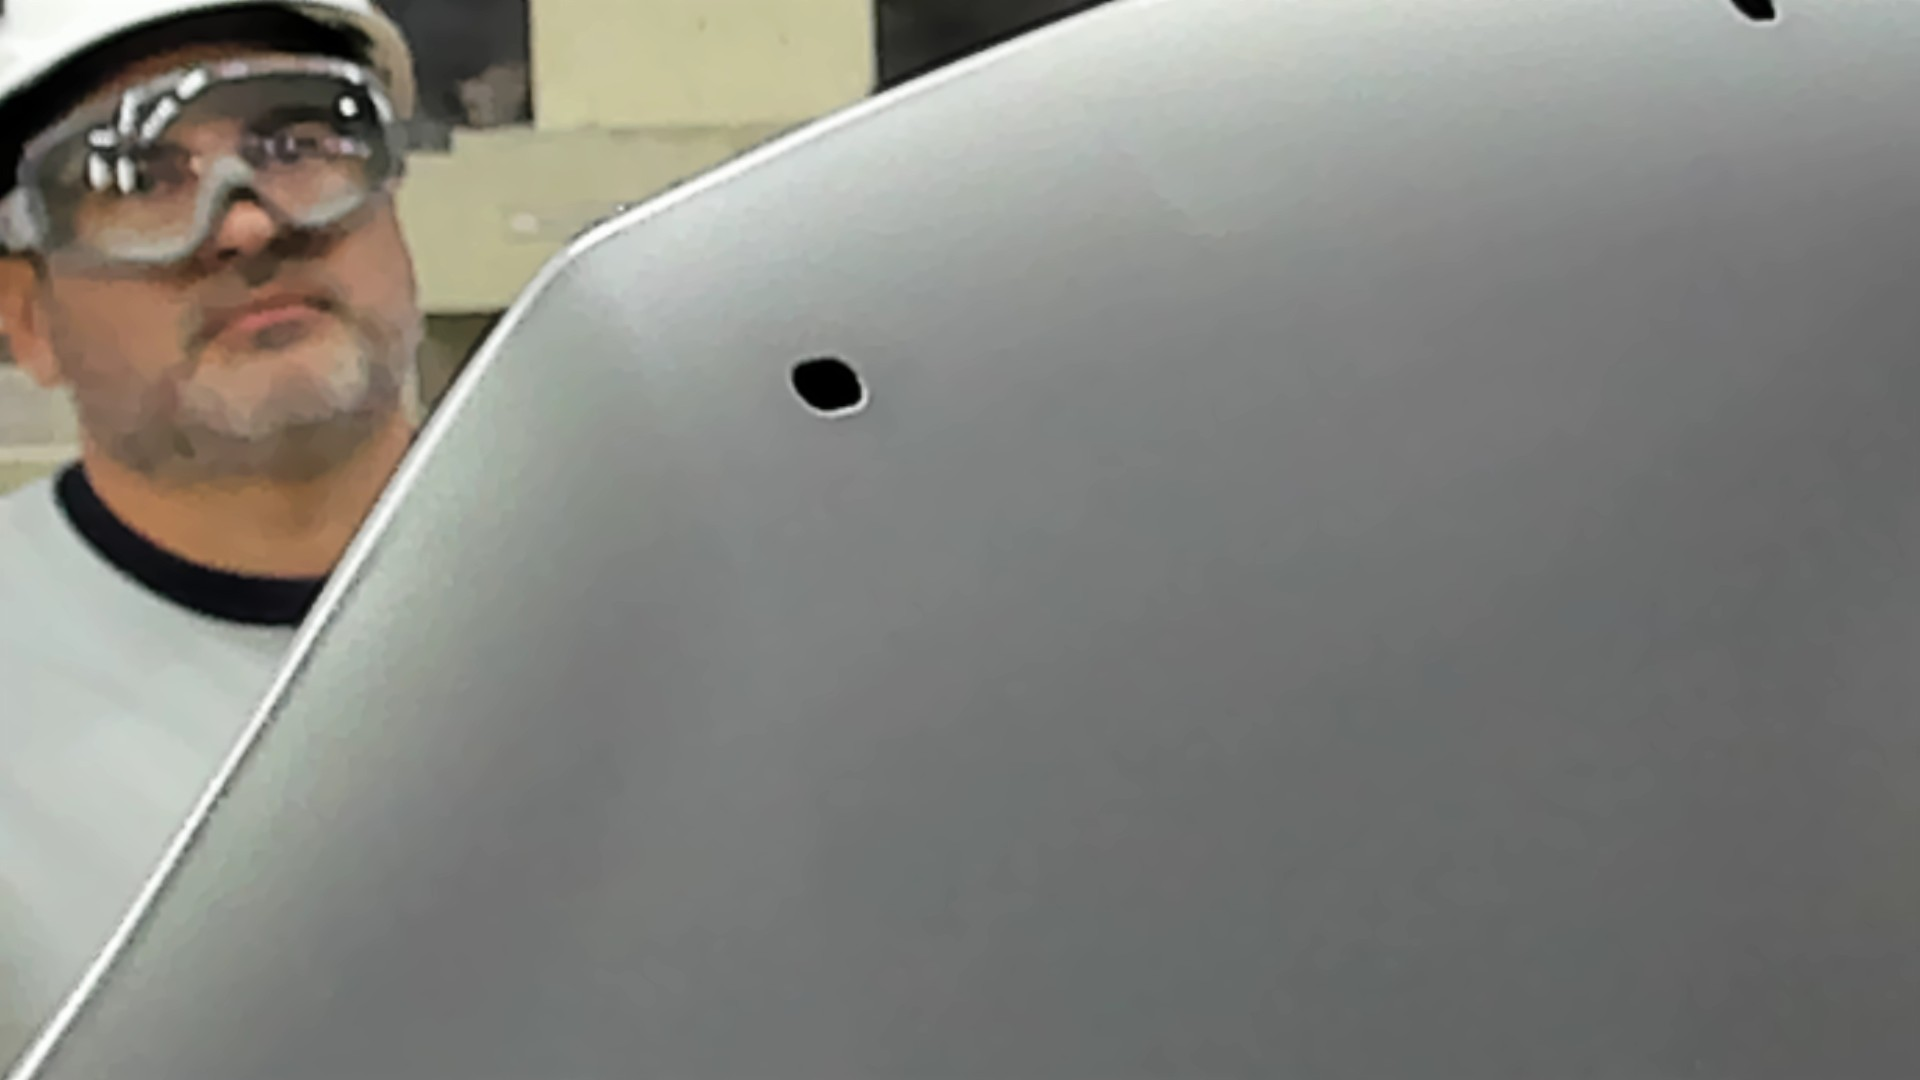amorfo: (783, 349, 870, 422), (1724, 1, 1792, 26)
